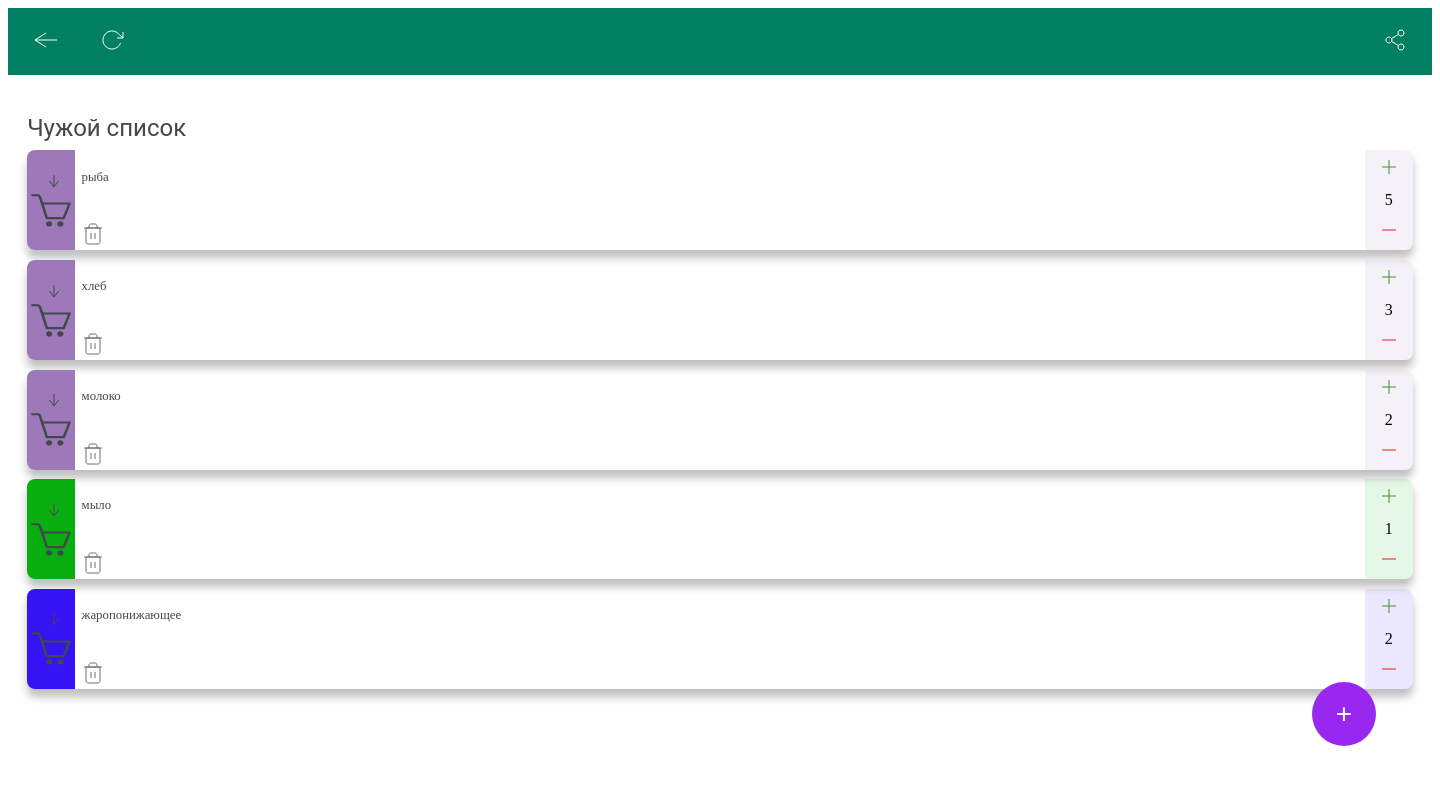
Scenario: ShoppingList click share button
Expected: the text "Ссылка скопирована в буфер обмена" is not shown
Click the button titled "Поделиться": (1395, 42) [1377,27,1413,56]
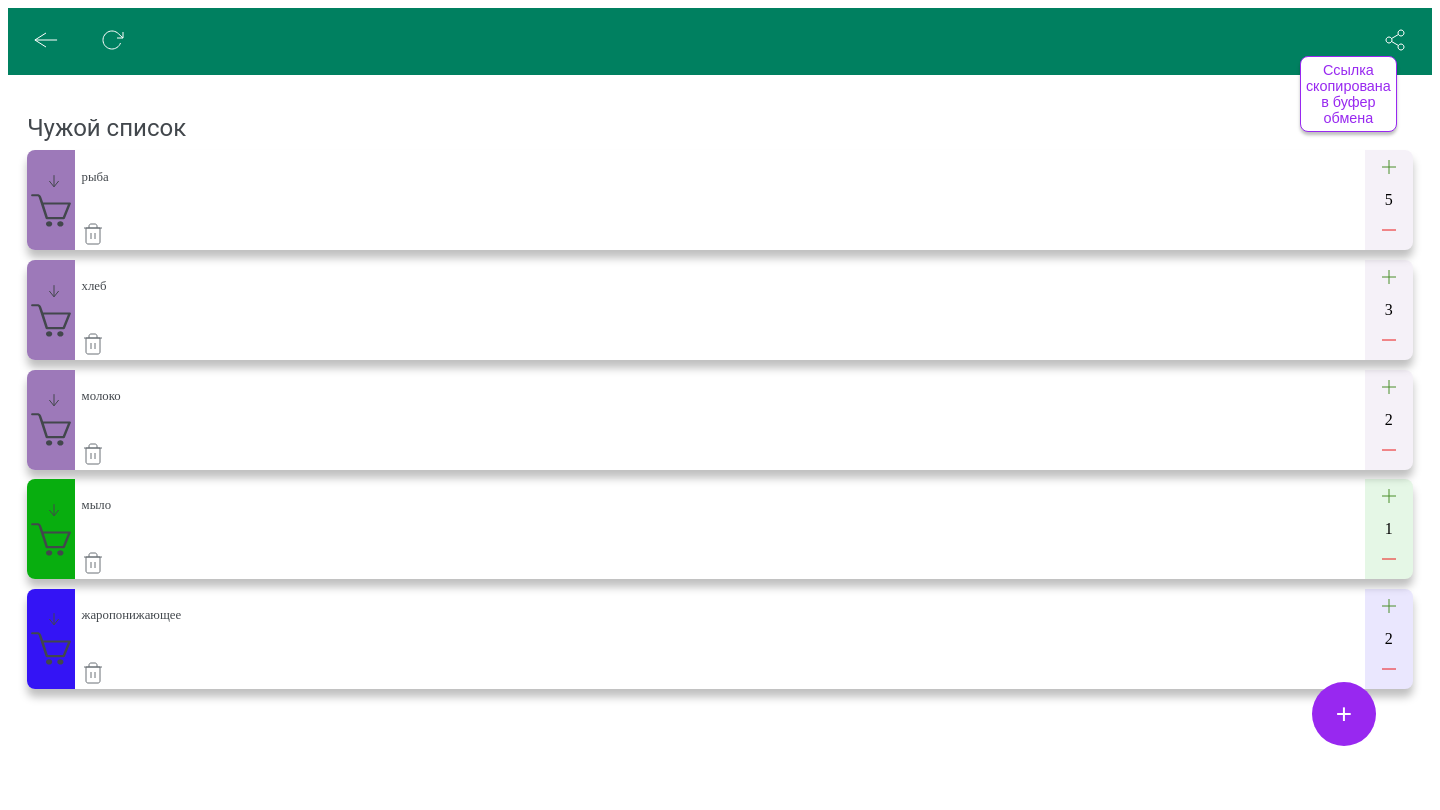
Expected: the text "Ссылка скопирована в буфер обмена" is shown, [1300,56,1397,132]
